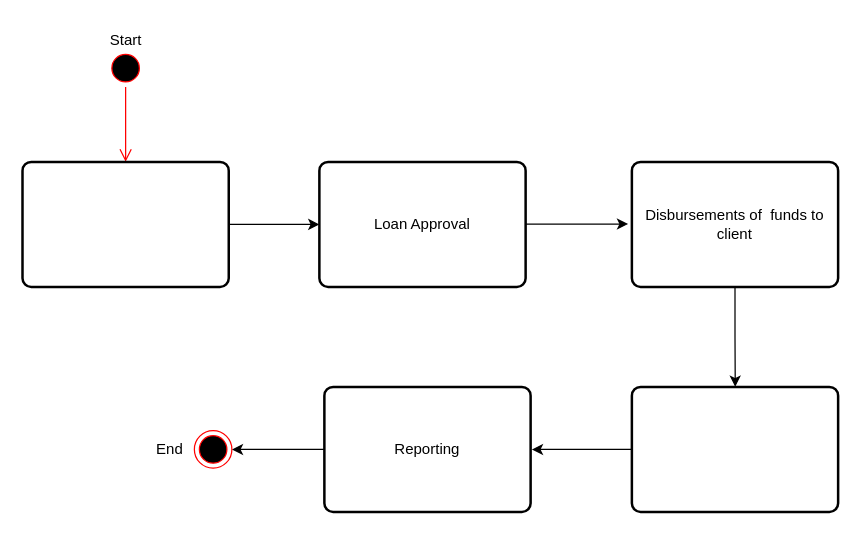
This 861x534 diagram has some shape labels left out. Each missing label, with the centre of its shape:
Client Loan Application: the point at 125,224
Payments collection: the point at 734,448
